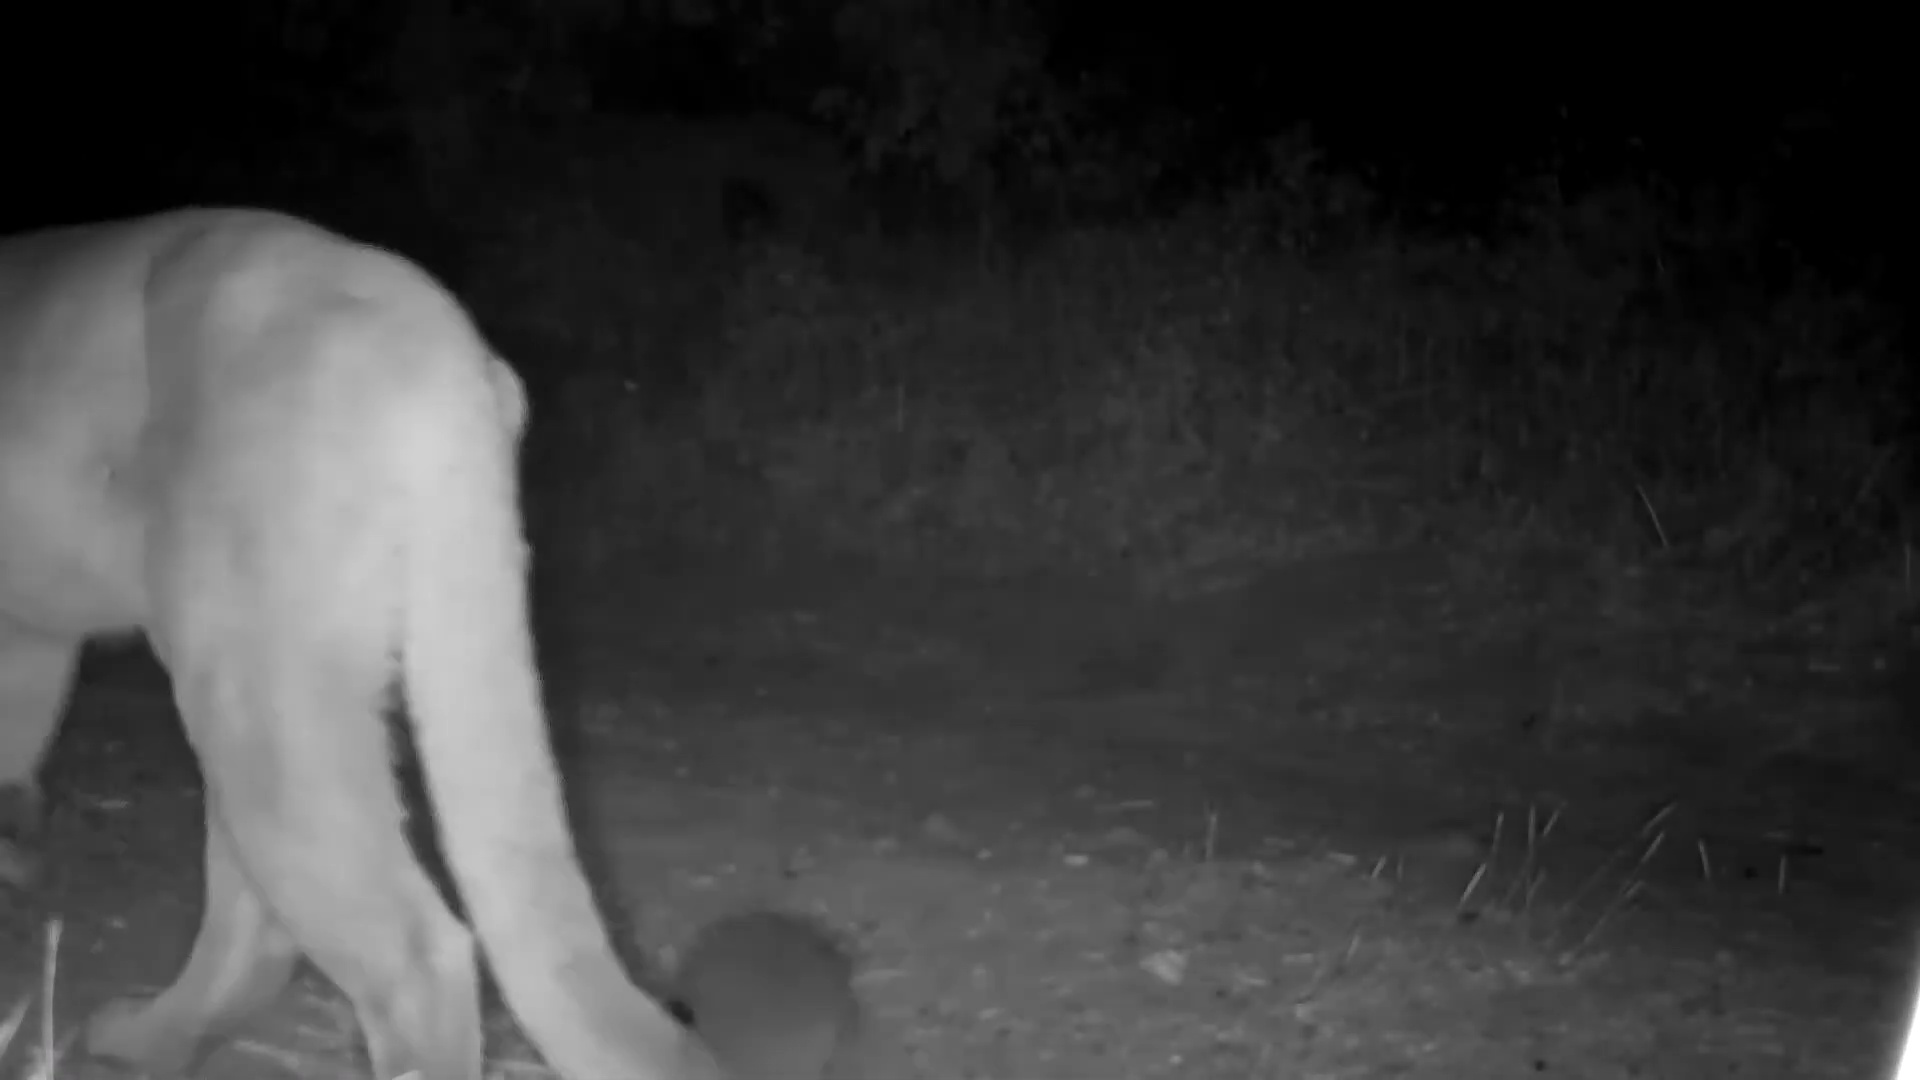Lion: (3, 200, 727, 1080)
